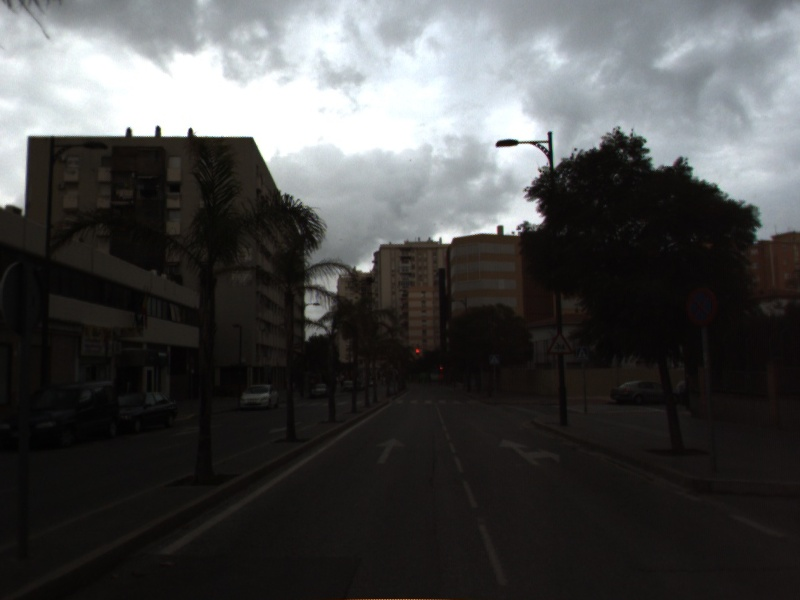STRAIGHT: (374, 435, 408, 467)
STRAIGHT_RIGHT: (496, 436, 562, 468)
